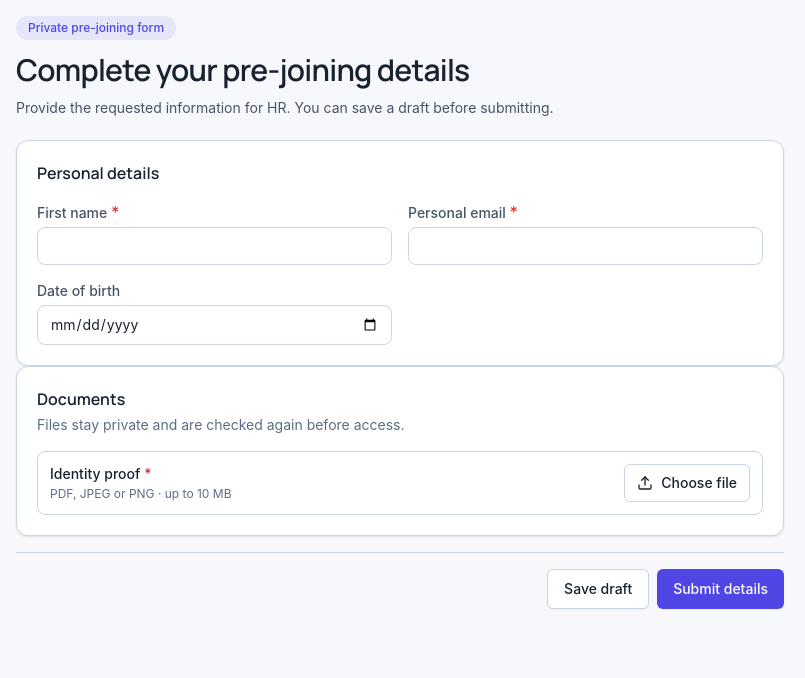
Test: PrejoiningFormPage › loads the configured fields and validates required answers and documents
The image size is (805, 678).
expect the heading "Complete your pre-joining details" is shown: met, box [16,49,470,90]
Click the button "Submit details" at [721, 589], box [657,569,784,609]
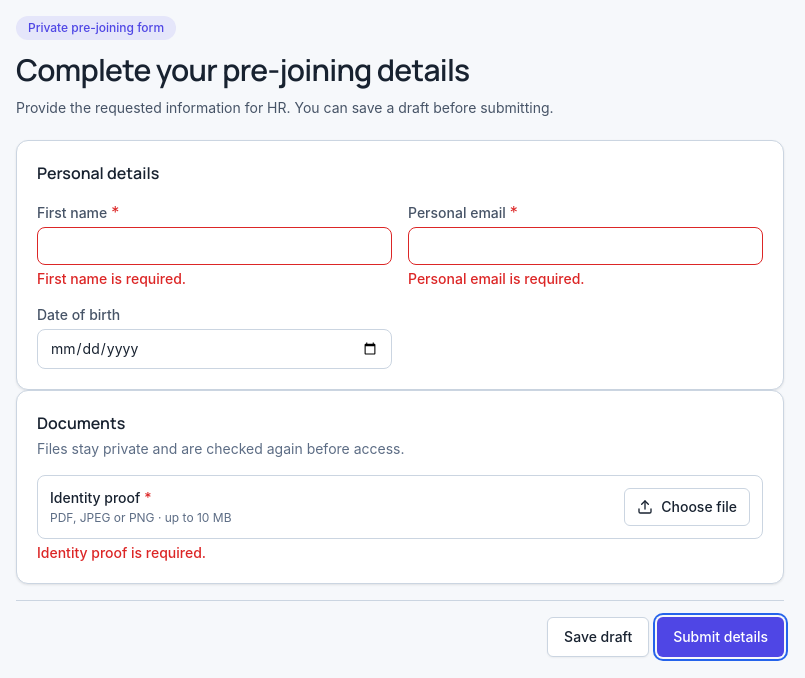
expect the text "First name is required." is shown: met, box [37,270,186,287]
expect the text "Personal email is required." is shown: met, box [408,270,585,287]
expect the text "Identity proof is required." is shown: met, box [37,544,206,561]
